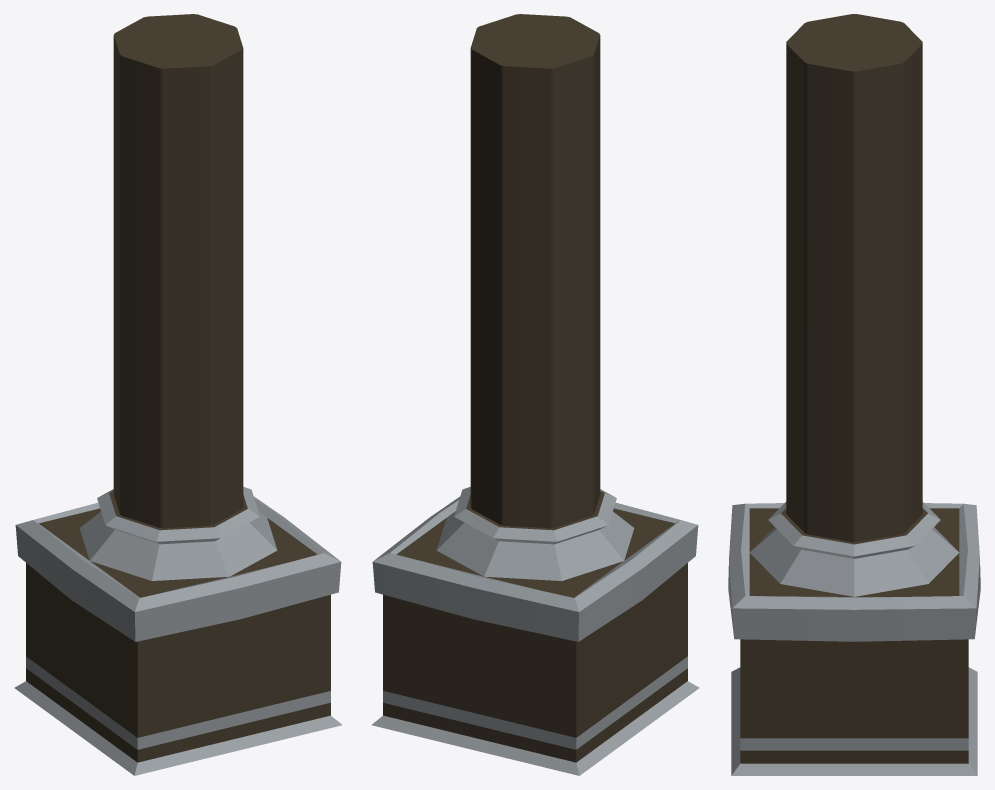
The model's file is 3Dobject_column.fbx.
3 views of the same model, side by side, from view 1: azimuth 30°, elevation 25°; view 2: azimuth 150°, elevation 25°; view 3: azimuth 270°, elevation 25° (orthographic). The views are drawn at different scales.
Visible parts, largest first — view 1: pCube1; view 2: pCube1; view 3: pCube1.
Part boxes in pixels (left/top/right/bottom): pCube1: left=14, top=14, right=342, bottom=775; pCube1: left=371, top=14, right=699, bottom=775; pCube1: left=728, top=14, right=980, bottom=775.
Bounding box in the file's own units: 0.7596 × 2.26 × 0.7596.
